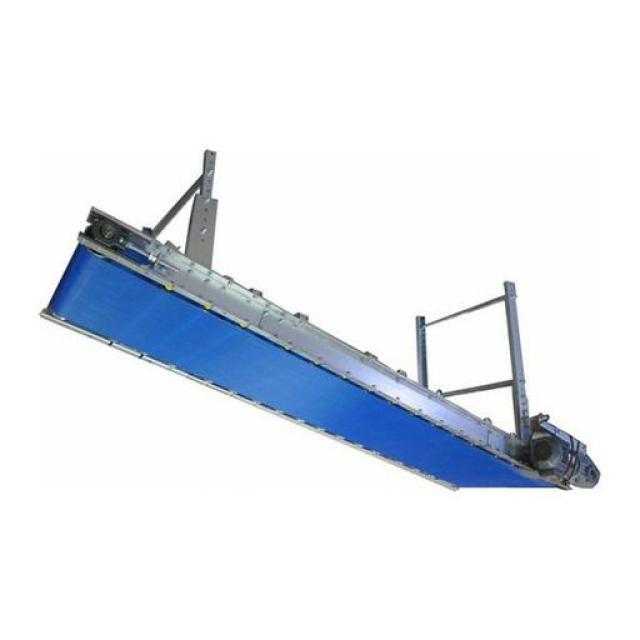conveyor: (43, 238, 556, 490)
